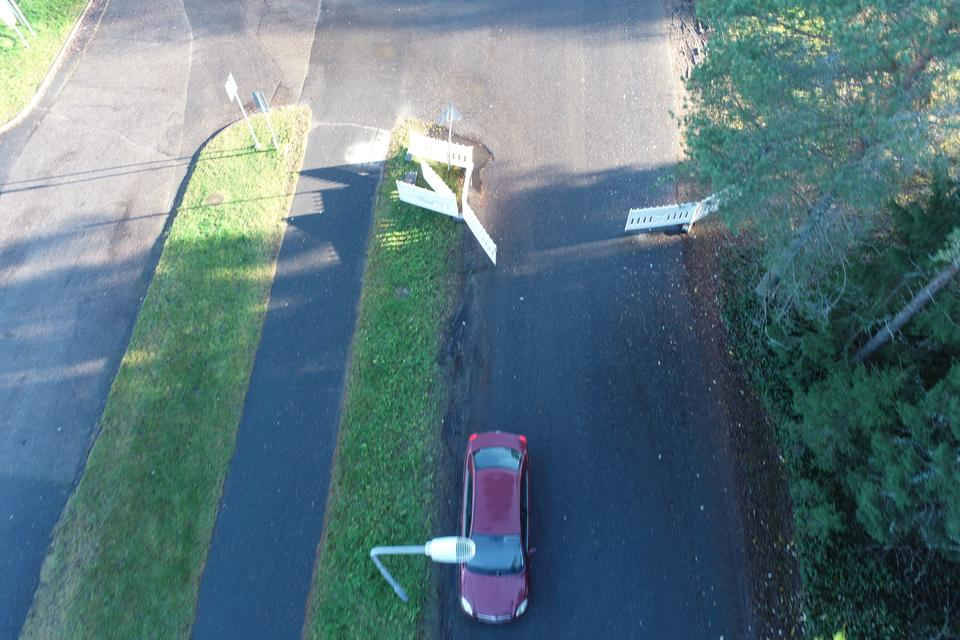intersection: (49, 3, 700, 220)
